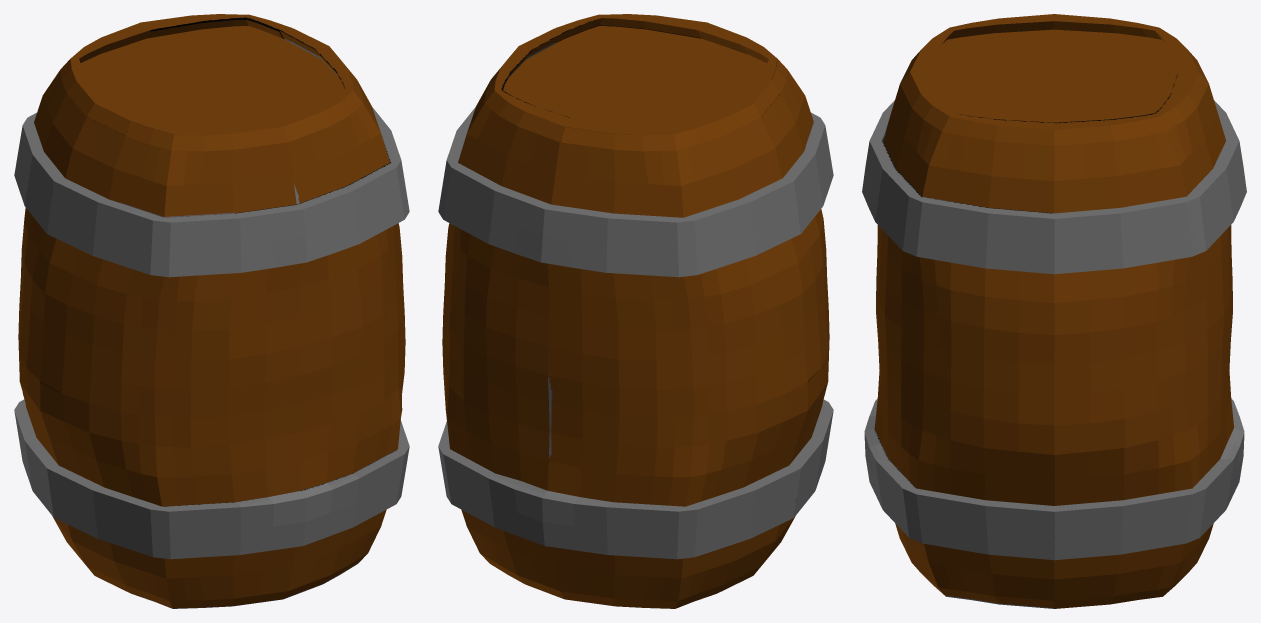
Rendered from Barrel.glb.
3 renders of one model, left to right at view 1: azimuth 30°, elevation 25°; view 2: azimuth 150°, elevation 25°; view 3: azimuth 270°, elevation 25°, orthographic.
Visible parts, largest first — view 1: Barrel; view 2: Barrel; view 3: Barrel.
Part boxes in pixels (x1=…): Barrel: x1=14, y1=14, x2=409, y2=608; Barrel: x1=438, y1=14, x2=833, y2=608; Barrel: x1=862, y1=14, x2=1246, y2=608.
Bounding box in the file's own units: 3.04 × 4 × 2.91.
1 material, 1 textured.
